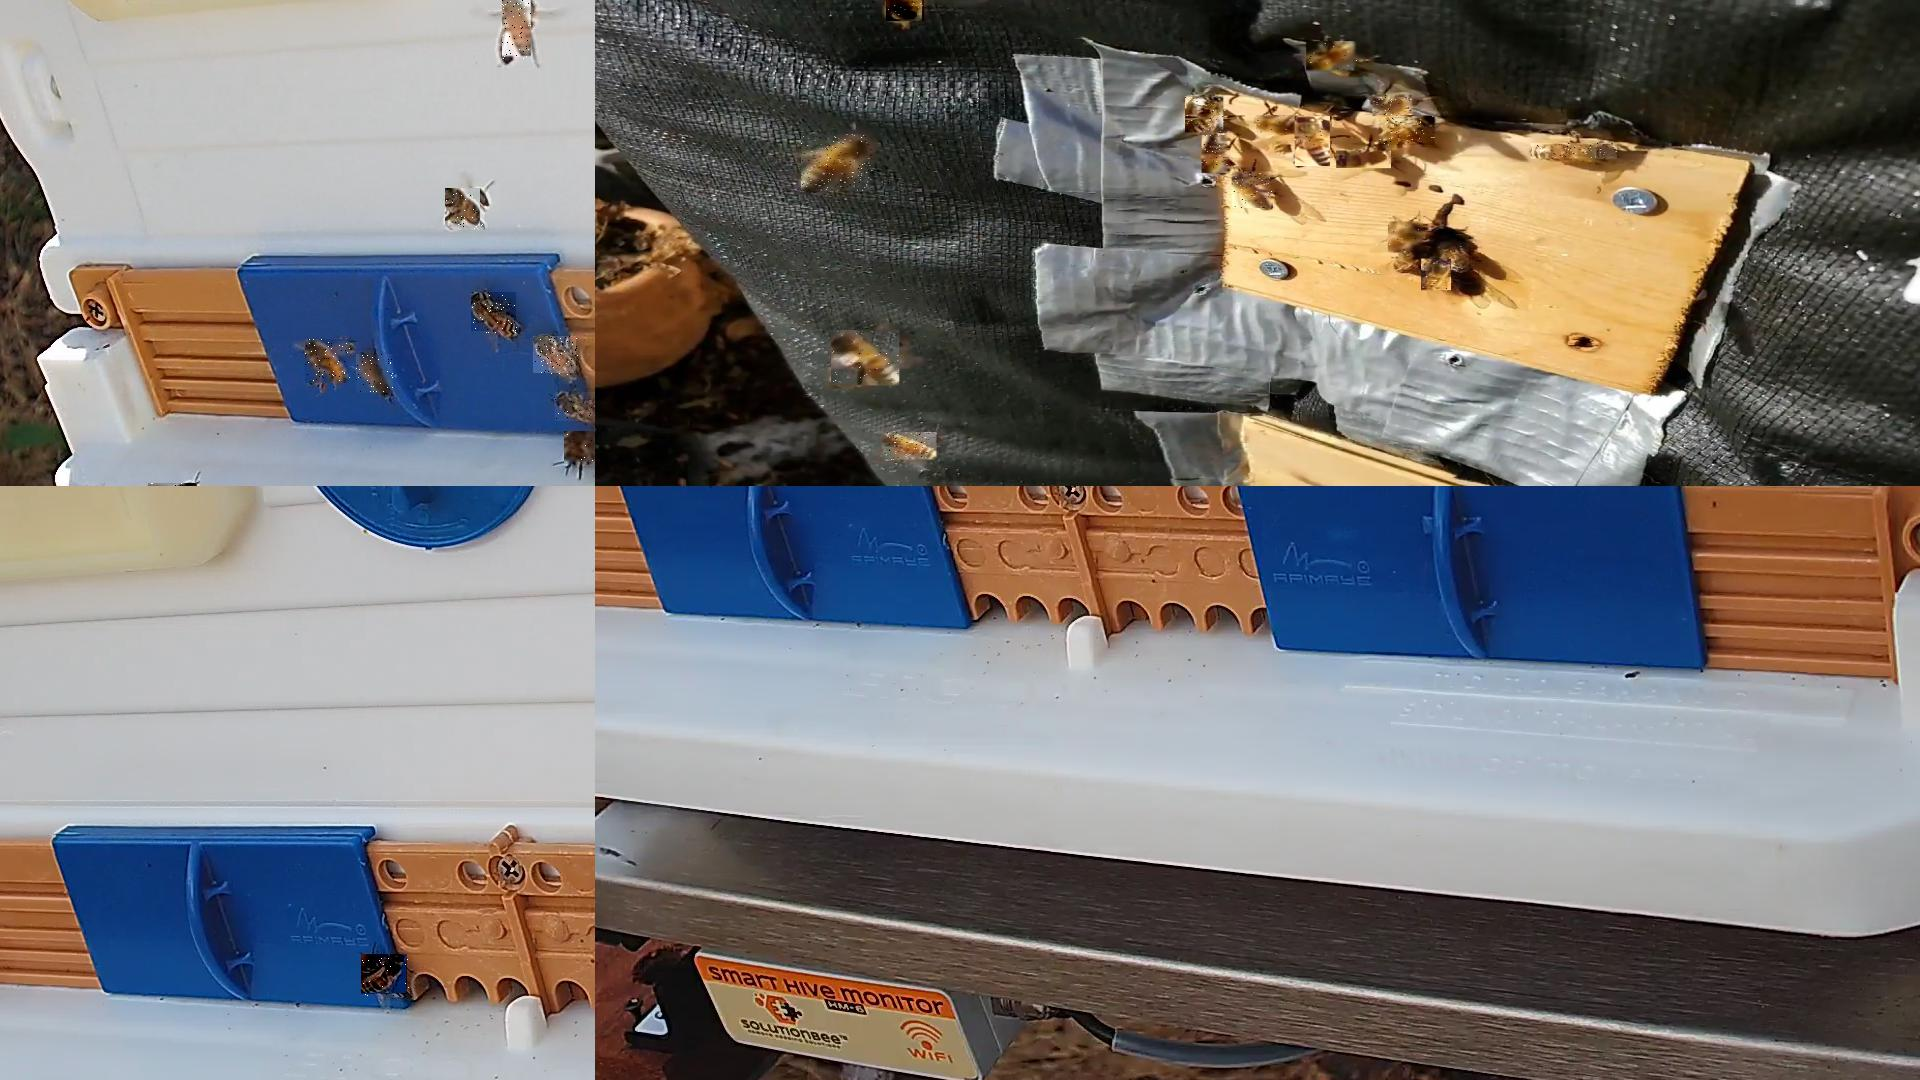bee: (802, 135, 874, 191), (831, 330, 901, 386), (306, 339, 353, 384), (363, 955, 411, 998), (472, 293, 520, 335), (1378, 115, 1436, 148), (534, 336, 580, 377), (502, 0, 533, 61), (1295, 116, 1331, 166), (1307, 42, 1360, 74), (356, 353, 394, 394), (1187, 96, 1229, 133), (882, 433, 938, 460), (1233, 171, 1274, 208), (1532, 144, 1621, 160), (555, 392, 593, 423), (1389, 222, 1427, 253), (1336, 152, 1393, 171), (1203, 136, 1230, 174), (1373, 94, 1416, 117), (1422, 258, 1452, 291), (564, 431, 593, 465), (1440, 243, 1470, 273), (1257, 115, 1305, 133), (886, 0, 926, 21)
pollenbee: (446, 189, 485, 231)
